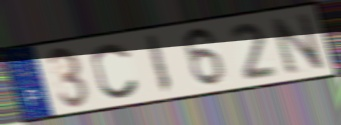2: (227, 21, 280, 82)
3: (46, 44, 90, 112)
6: (183, 24, 231, 91)
C: (90, 41, 142, 100)
I: (143, 32, 175, 96)
N: (267, 10, 328, 77)
